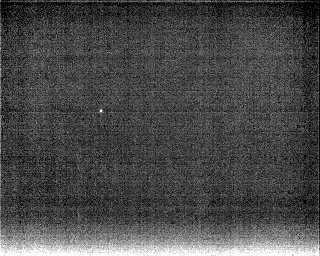BIRD: (97, 106, 106, 117)
